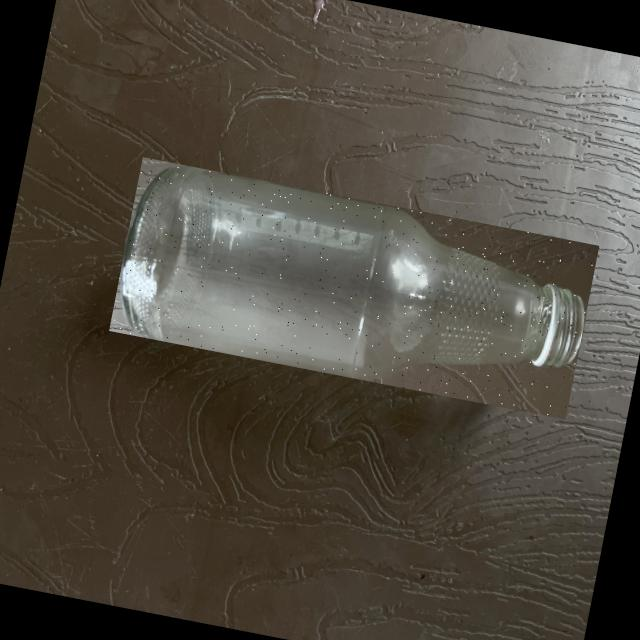Glass_Bottle: (122, 167, 583, 379)
